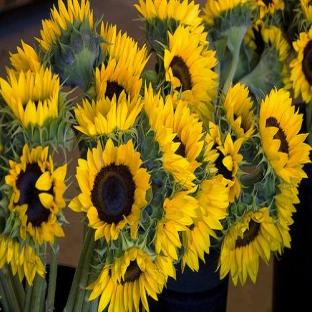sunflower: (68, 139, 150, 244)
